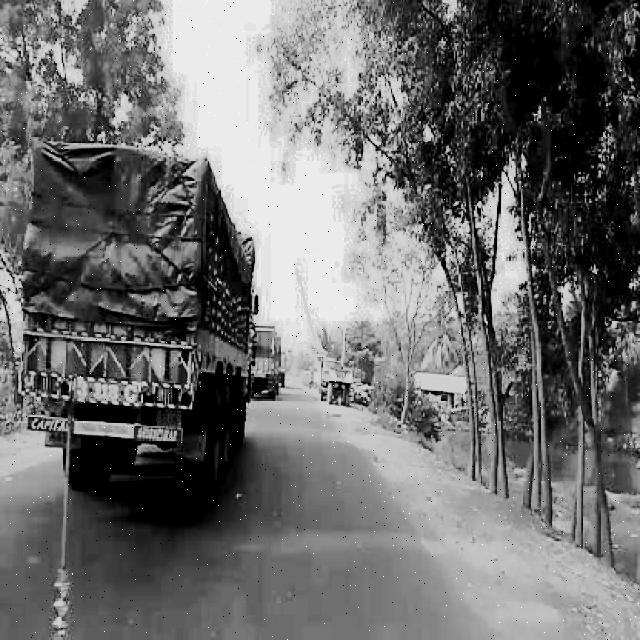HCV: (29, 123, 264, 442), (246, 312, 285, 388)
